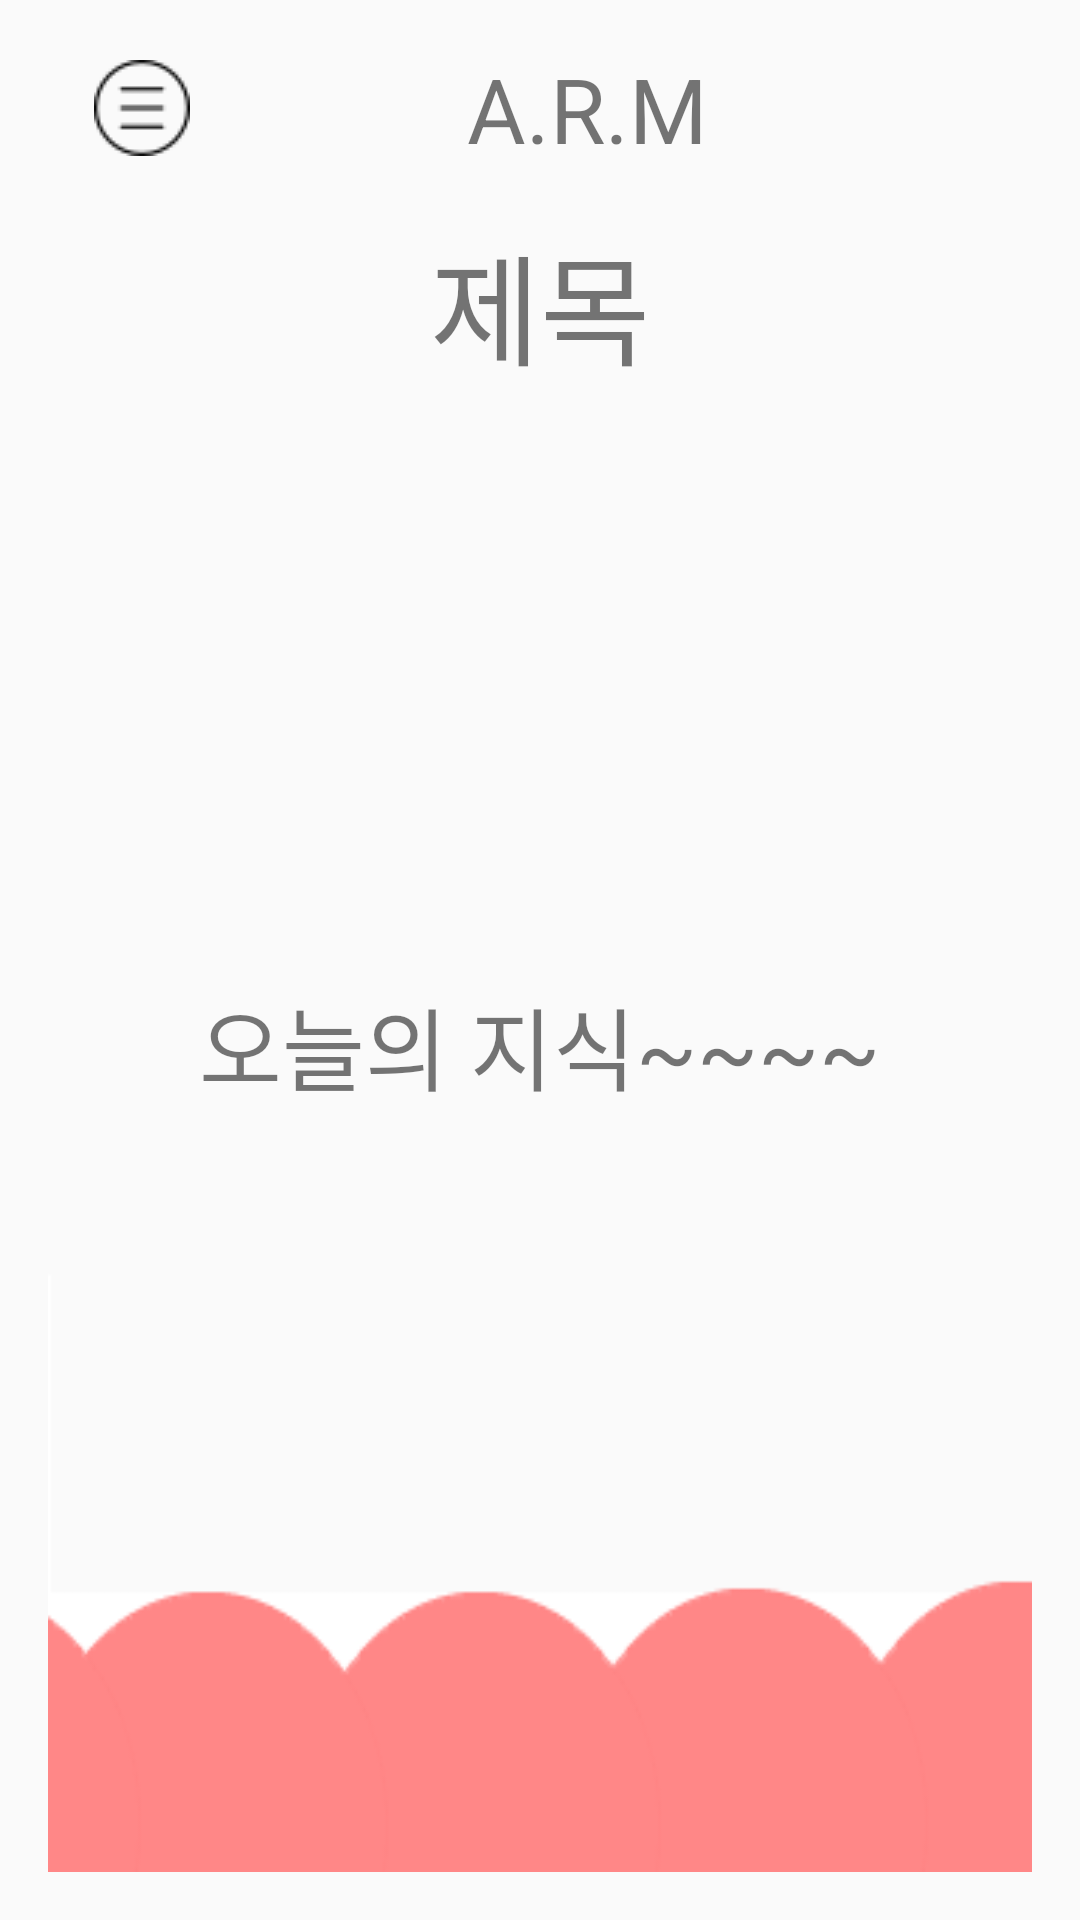

Named icons in this screenshot (1080px×1920px) and their bounding boxes, (x1, y1, x2, y2):
menu: (94, 60, 190, 156)
